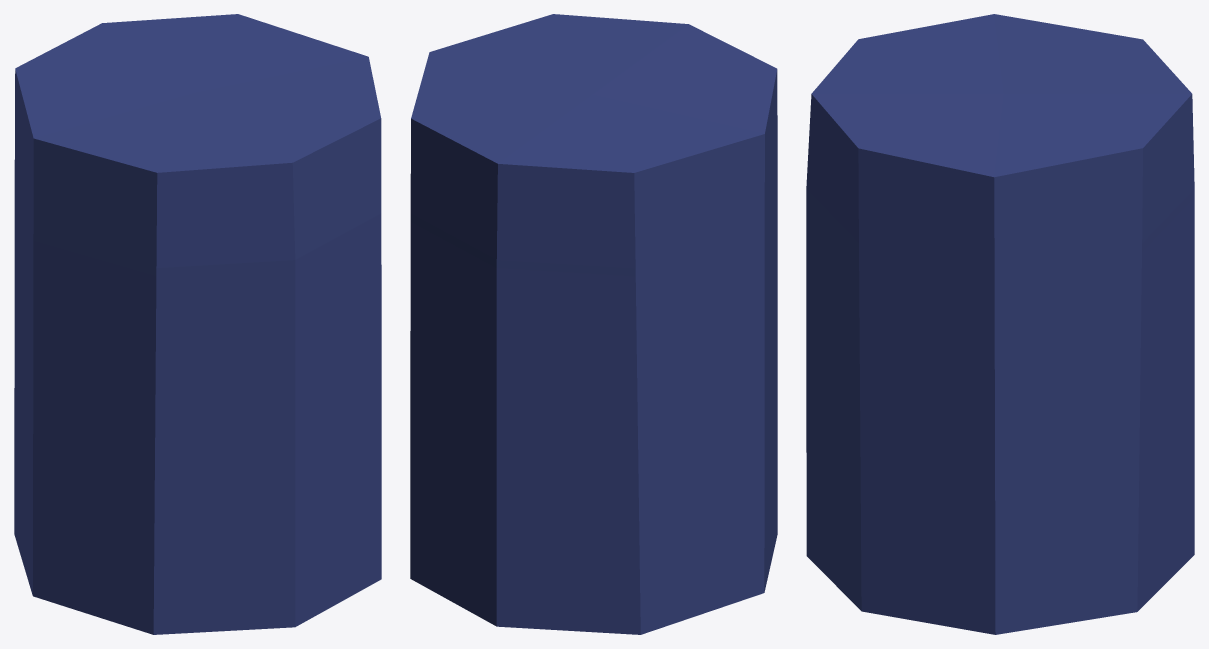
File: Trashcan_4.fbx
3 renders of one model, left to right at view 1: azimuth 30°, elevation 25°; view 2: azimuth 150°, elevation 25°; view 3: azimuth 270°, elevation 25°, orthographic.
Parts seen in each view (by area): view 1: Trashcan_4; view 2: Trashcan_4; view 3: Trashcan_4.
Boxes of the visible parts, x1,y1,x2,y2 form: Trashcan_4: [14, 14, 381, 634]; Trashcan_4: [410, 14, 777, 634]; Trashcan_4: [806, 14, 1194, 634].
Bounding box in the file's own units: 28.13 × 28.24 × 37.08.
